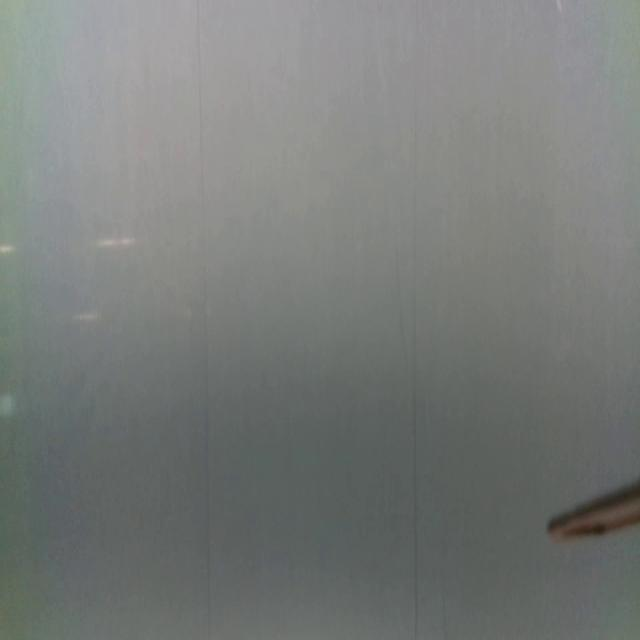crease: (194, 0, 213, 640), (410, 0, 421, 639)
